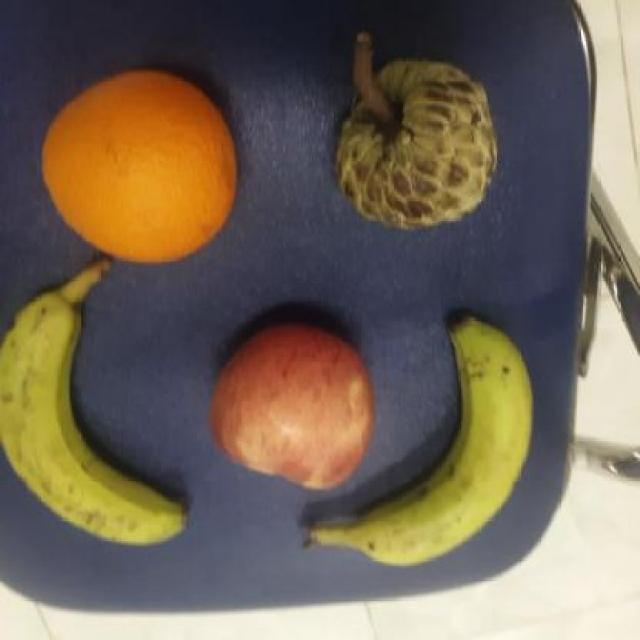apple: (210, 319, 375, 493)
banana: (300, 310, 534, 568), (0, 267, 188, 548)
oren: (36, 70, 239, 265)
sugar apple: (334, 59, 497, 232)
